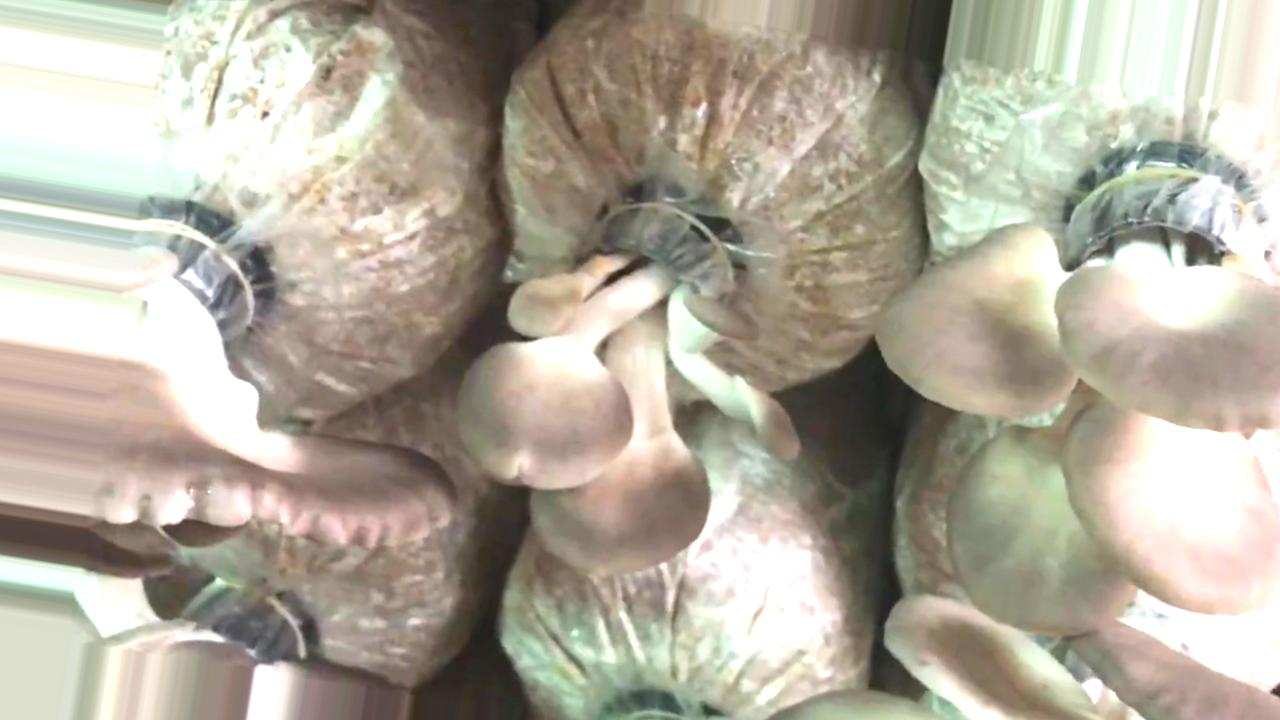nam: (874, 157, 1280, 632), (466, 195, 800, 575), (141, 193, 463, 535)
